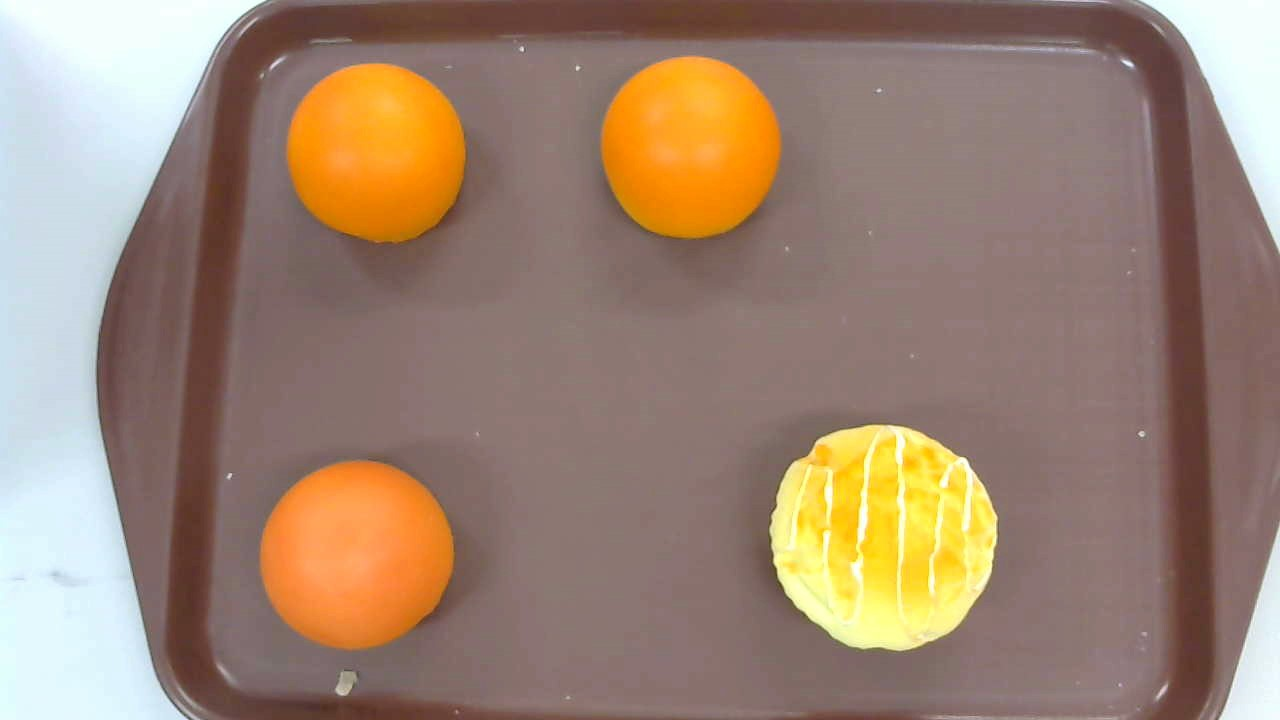bun: (260, 456, 453, 647), (600, 55, 780, 241), (285, 64, 467, 244)
cupcake: (768, 424, 999, 652)
